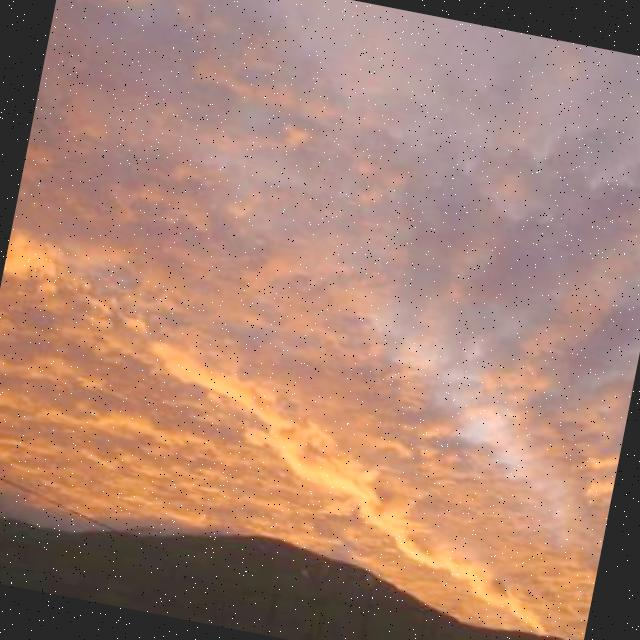Ac: (1, 1, 640, 588)
